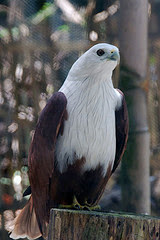Pengoyak Daging: (109, 47, 124, 66)
